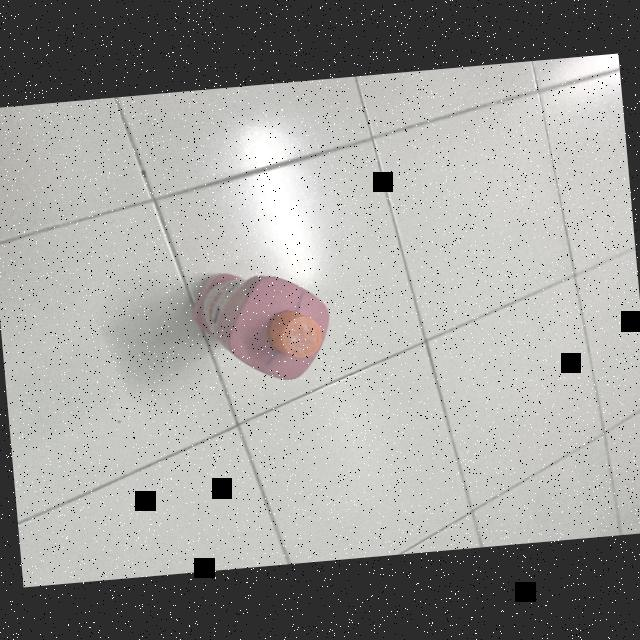chemical_plastic_bottle: (183, 258, 339, 388)
